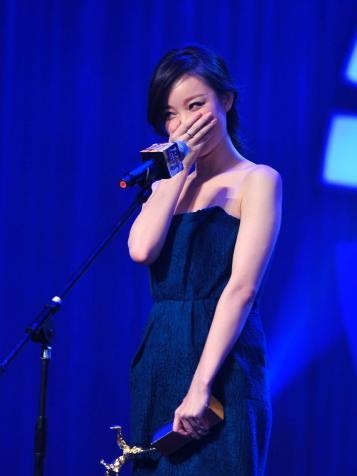face: (162, 76, 220, 161)
